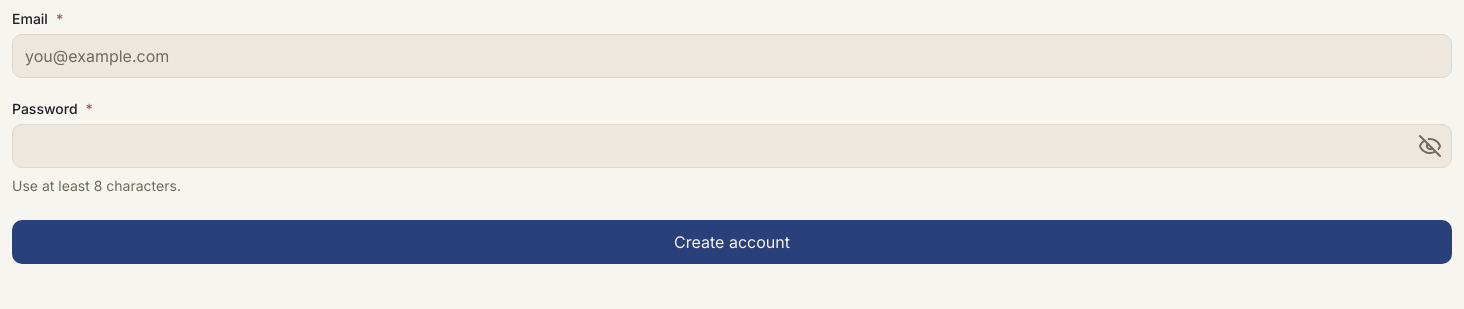
Test: authentication forms › rejects signup passwords shorter than eight characters
The width and height of the screenshot is (1464, 309).
Type "reader@example.com" into the field labelled "Email *" at (732, 56), box [12, 34, 1452, 78]
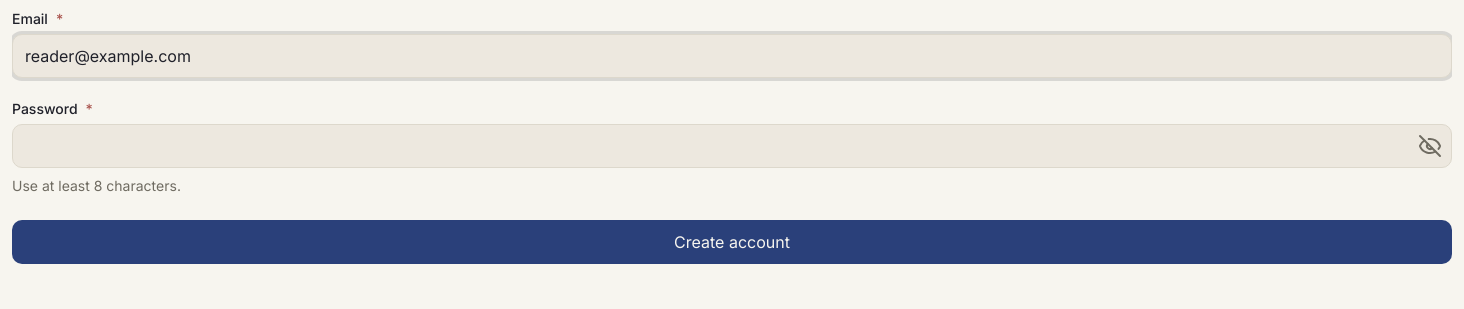
Type "short" into the password field labelled "Password *" at (732, 146), box [12, 124, 1452, 168]
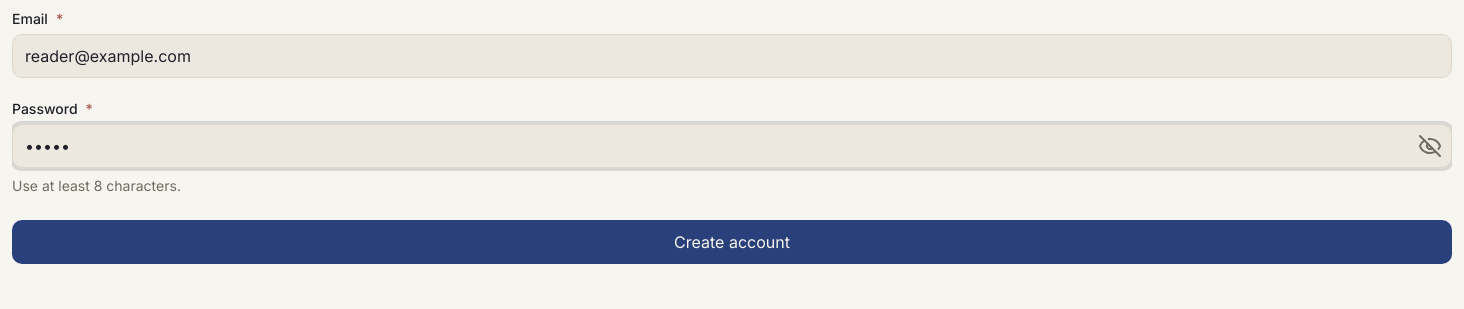
Click the button "Create account" at (732, 242), box [12, 220, 1452, 264]
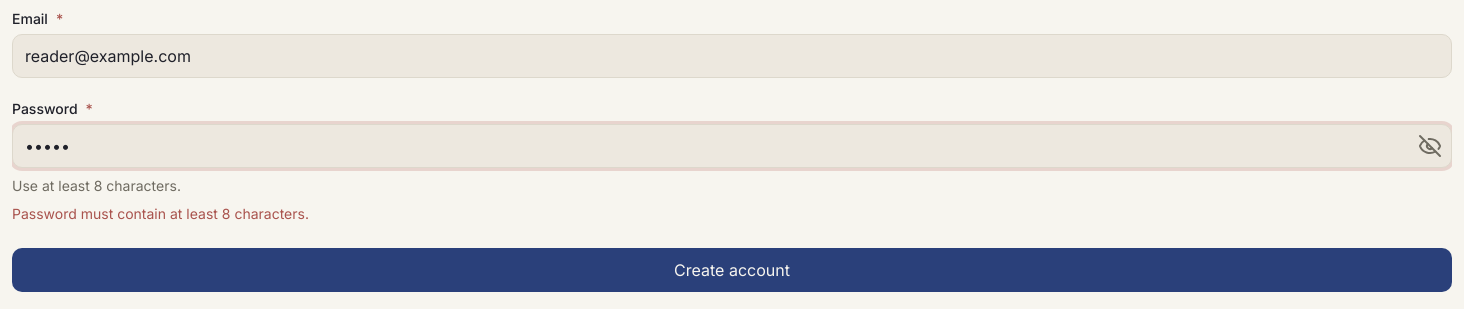
Now the text "Password must contain at least 8 characters." is shown, box [12, 205, 309, 222]
